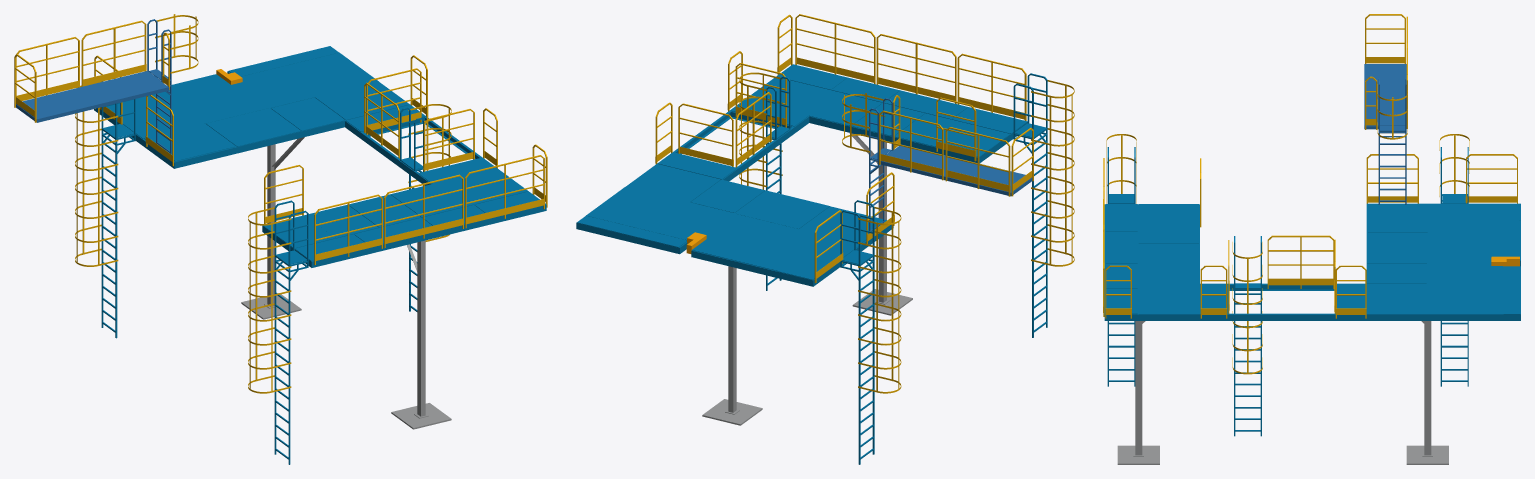
File: Phase47 (2).fbx
The picture shows the model from 3 angles, left to right: view 1: azimuth 30°, elevation 25°; view 2: azimuth 150°, elevation 25°; view 3: azimuth 270°, elevation 25°; orthographic projection. The views are drawn at different scales.
Parts seen in each view (by area): view 1: RAL 5015 (×2), Сталь RAL 1021 (×2), Профили_гнутые_замкнутые_сварные_прямоугольные_ГОСТ 30245-20 (×2), Стальной лист (ГОСТ 19903-74) Балки:Лист 1510x2170:257715, Стальной лист (ГОСТ 19903-74) Балки:Лист 1550x1800:259448, Стальной лист (ГОСТ 19903-74) Балки:Лист 1420x1675:258394, Стальной лист (ГОСТ 19903-74) Балки:Лист 1420:262594, Стальной лист (ГОСТ 19903-74) Балки:Лист 1420:259856, Стальной лист (ГОСТ 19903-74) Балки:Лист 1420x1570:258035, Швеллер_с_параллельными_полками_ГОСТ_8240-97_Балка:[ 16P:264 (×2), Стальной лист (ГОСТ 19903-74) Балки:Лист 875:263699, Стальной лист (ГОСТ 19903-74) Балки:Лист 1400x1130:260105 (+26 smaller); view 2: RAL 5015 (×2), Сталь RAL 1021 (×2), Стальной лист (ГОСТ 19903-74) Балки:Лист 1510x2170:257715, Стальной лист (ГОСТ 19903-74) Балки:Лист 1550x1800:259448, Профили_гнутые_замкнутые_сварные_прямоугольные_ГОСТ 30245-20 (×2), Стальной лист (ГОСТ 19903-74) Балки:Лист 1420x1675:258394, Стальной лист (ГОСТ 19903-74) Балки:Лист 1420:259856, Стальной лист (ГОСТ 19903-74) Балки:Лист 1420:262594, Стальной лист (ГОСТ 19903-74) Балки:Лист 875:263699, Стальной лист (ГОСТ 19903-74) Балки:Лист 910x2170:257159, Стальной лист (ГОСТ 19903-74) Балки:Лист 1420x1570:258035, Швеллер_с_параллельными_полками_ГОСТ_8240-97_Балка:[ 16P:262 (×2) (+26 smaller); view 3: Стальной лист (ГОСТ 19903-74) Балки:Лист 1510x2170:257715, Швеллер_с_параллельными_полками_ГОСТ_8240-97_Балка:[ 16P:260 (×3), RAL 5015 (×2), Профили_гнутые_замкнутые_сварные_прямоугольные_ГОСТ 30245-20 (×2), Стальной лист (ГОСТ 19903-74) Балки:Лист 1550x1800:259448, Стальной лист (ГОСТ 19903-74) Балки:Лист 1420:262594, Стальной лист (ГОСТ 19903-74) Балки:Лист 1420x1675:258394, Стальной лист (ГОСТ 19903-74) Балки:Лист 1420:259856, Стальной лист (ГОСТ 19903-74) Балки:Лист 1420x1570:258035, Стальной лист (ГОСТ 19903-74) Балки:Лист 910x2170:257159, Стремянка с 5100:Стремянка с 5100:261320, Стальной лист (ГОСТ 19903-74) Балки:Лист 875:263699 (+24 smaller).
Boxes of the visible parts, box(x1,y1,x2,y2) form: RAL 5015 (×2): box(101, 77, 308, 464); Сталь RAL 1021 (×2): box(75, 82, 291, 393); Профили_гнутые_замкнутые_сварные_прямоугольные_ГОСТ 30245-20 (×2): box(267, 144, 425, 416); Стальной лист (ГОСТ 19903-74) Балки:Лист 1510x2170:257715: box(136, 81, 235, 129); Стальной лист (ГОСТ 19903-74) Балки:Лист 1550x1800:259448: box(259, 58, 356, 101); Стальной лист (ГОСТ 19903-74) Балки:Лист 1420x1675:258394: box(206, 108, 300, 146); Стальной лист (ГОСТ 19903-74) Балки:Лист 1420:262594: box(433, 168, 527, 207); Стальной лист (ГОСТ 19903-74) Балки:Лист 1420:259856: box(315, 81, 409, 120); Стальной лист (ГОСТ 19903-74) Балки:Лист 1420x1570:258035: box(144, 123, 235, 161); Швеллер_с_параллельными_полками_ГОСТ_8240-97_Балка:[ 16P:264 (×2): box(311, 204, 546, 267); Стальной лист (ГОСТ 19903-74) Балки:Лист 875:263699: box(188, 74, 268, 115); Стальной лист (ГОСТ 19903-74) Балки:Лист 1400x1130:260105: box(271, 97, 344, 130); RAL 5015 (×2): box(840, 73, 1047, 464); Сталь RAL 1021 (×2): box(858, 80, 1074, 393); Стальной лист (ГОСТ 19903-74) Балки:Лист 1510x2170:257715: box(720, 222, 824, 271); Стальной лист (ГОСТ 19903-74) Балки:Лист 1550x1800:259448: box(608, 192, 705, 235); Профили_гнутые_замкнутые_сварные_прямоугольные_ГОСТ 30245-20 (×2): box(728, 141, 886, 412); Стальной лист (ГОСТ 19903-74) Балки:Лист 1420x1675:258394: box(735, 190, 829, 228); Стальной лист (ГОСТ 19903-74) Балки:Лист 1420:259856: box(626, 164, 720, 202); Стальной лист (ГОСТ 19903-74) Балки:Лист 1420:262594: box(745, 78, 839, 115); Стальной лист (ГОСТ 19903-74) Балки:Лист 875:263699: box(692, 213, 767, 256); Стальной лист (ГОСТ 19903-74) Балки:Лист 910x2170:257159: box(778, 236, 858, 279); Стальной лист (ГОСТ 19903-74) Балки:Лист 1420x1570:258035: box(800, 207, 886, 243); Швеллер_с_параллельными_полками_ГОСТ_8240-97_Балка:[ 16P:262 (×2): box(722, 116, 977, 181); Стальной лист (ГОСТ 19903-74) Балки:Лист 1510x2170:257715: box(1427, 220, 1519, 246); Швеллер_с_параллельными_полками_ГОСТ_8240-97_Балка:[ 16P:260 (×3): box(1200, 313, 1520, 320); RAL 5015 (×2): box(1107, 147, 1468, 386); Профили_гнутые_замкнутые_сварные_прямоугольные_ГОСТ 30245-20 (×2): box(1135, 321, 1431, 455); Стальной лист (ГОСТ 19903-74) Балки:Лист 1550x1800:259448: box(1427, 276, 1502, 303); Стальной лист (ГОСТ 19903-74) Балки:Лист 1420:262594: box(1138, 283, 1198, 314); Стальной лист (ГОСТ 19903-74) Балки:Лист 1420x1675:258394: box(1367, 233, 1427, 263); Стальной лист (ГОСТ 19903-74) Балки:Лист 1420:259856: box(1367, 284, 1427, 314); Стальной лист (ГОСТ 19903-74) Балки:Лист 1420x1570:258035: box(1368, 204, 1428, 232); Стальной лист (ГОСТ 19903-74) Балки:Лист 910x2170:257159: box(1428, 203, 1520, 219); Стремянка с 5100:Стремянка с 5100:261320: box(1234, 236, 1261, 436); Стальной лист (ГОСТ 19903-74) Балки:Лист 875:263699: box(1427, 247, 1519, 262).
Size of the model in its own units: 9868 by 9829 by 8203.
